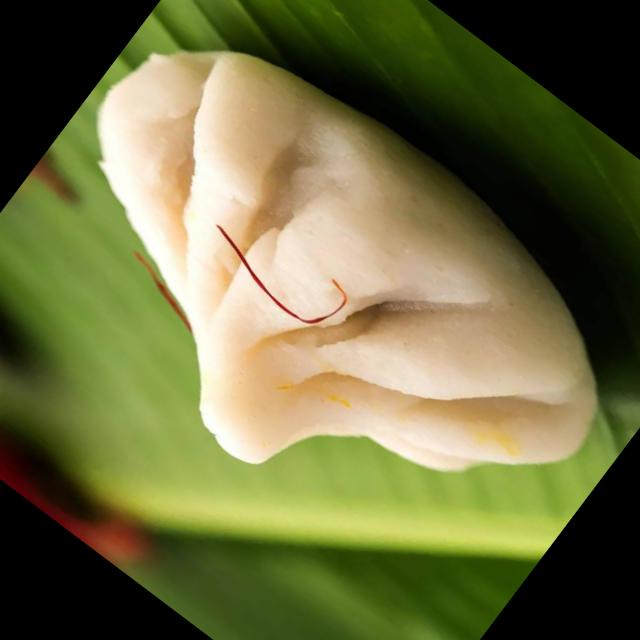modak: (0, 0, 640, 623)
